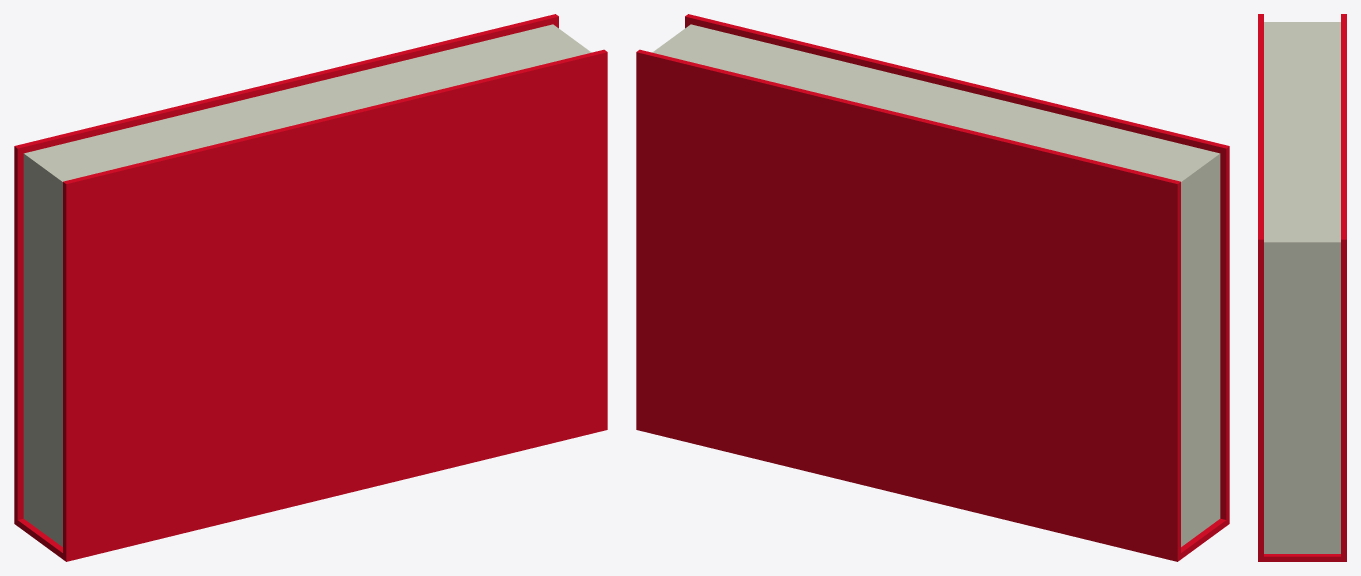
File: redbook.fbx
3 views of the same model, side by side, from view 1: azimuth 30°, elevation 25°; view 2: azimuth 150°, elevation 25°; view 3: azimuth 270°, elevation 25° (orthographic). The views are drawn at different scales.
Parts seen in each view (by area): view 1: bok1; view 2: bok1; view 3: bok1.
Boxes of the visible parts, left/top/right/bottom form: bok1: left=14, top=14, right=607, bottom=561; bok1: left=636, top=14, right=1229, bottom=561; bok1: left=1258, top=14, right=1346, bottom=561.
Size of the model in its own units: 18000 by 12000 by 3000.
